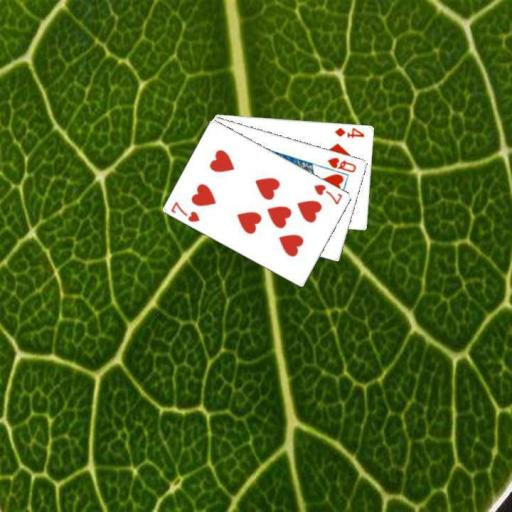card-corner: (168, 198, 201, 224), (311, 182, 344, 206), (325, 154, 358, 174), (332, 124, 366, 140)
